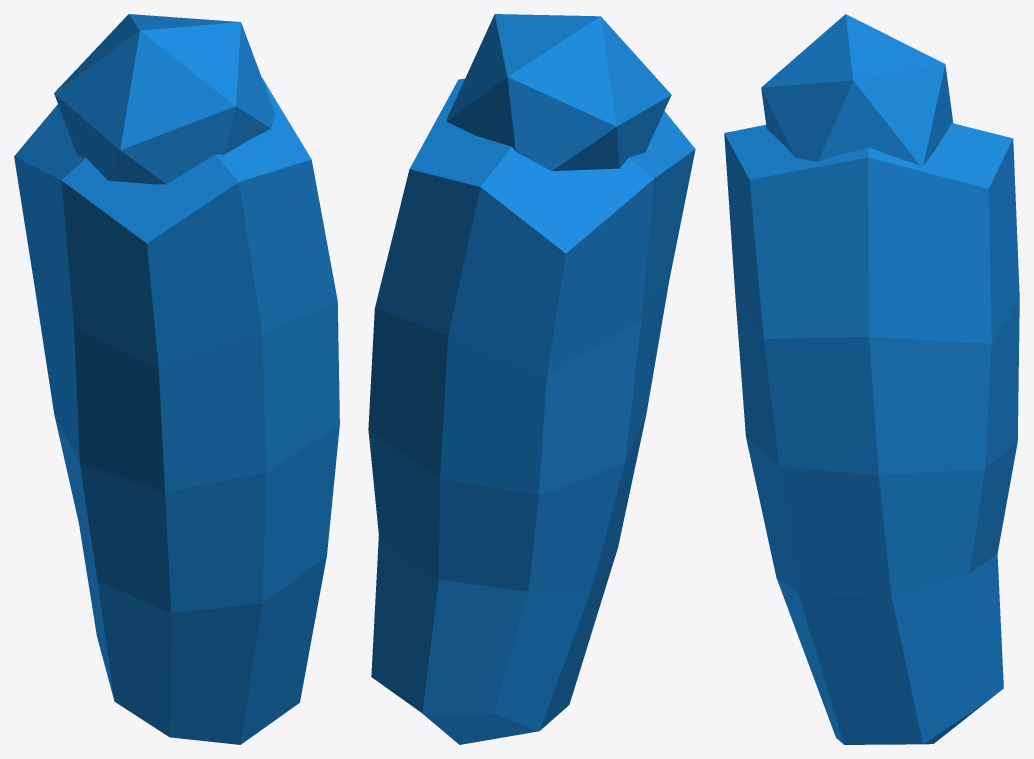
The model's file is RIGHT_THIGH.fbx.
3 renders of one model, left to right at view 1: azimuth 30°, elevation 25°; view 2: azimuth 150°, elevation 25°; view 3: azimuth 270°, elevation 25°, orthographic. The views are drawn at different scales.
Visible parts, largest first — view 1: RIGHT_LEG; view 2: RIGHT_LEG; view 3: RIGHT_LEG.
Boxes of the visible parts, box(x1,y1,x2,y2) form: RIGHT_LEG: box(14, 14, 339, 744); RIGHT_LEG: box(368, 14, 695, 744); RIGHT_LEG: box(724, 14, 1019, 744).
Size of the model in its own units: 0.3449 by 0.9549 by 0.373.
